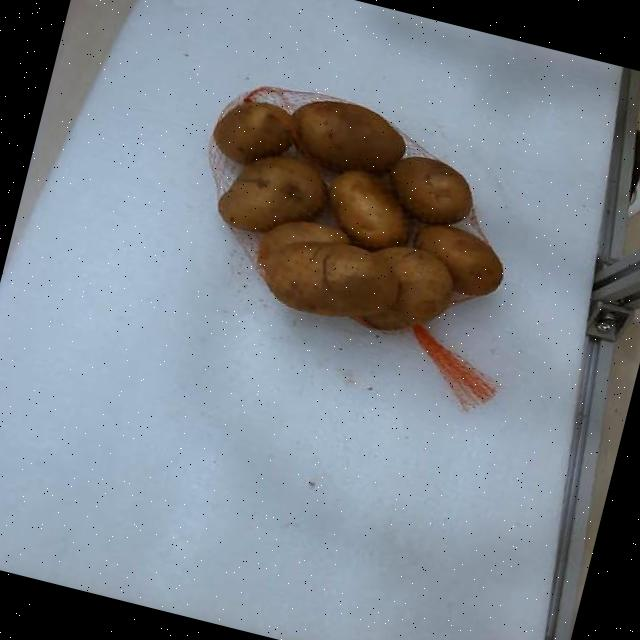potato: (261, 221, 398, 315), (293, 99, 405, 171), (220, 154, 326, 230), (358, 245, 452, 330), (329, 169, 408, 248), (415, 224, 502, 294), (390, 156, 472, 224), (323, 243, 398, 315), (323, 243, 398, 314), (213, 100, 293, 162)
